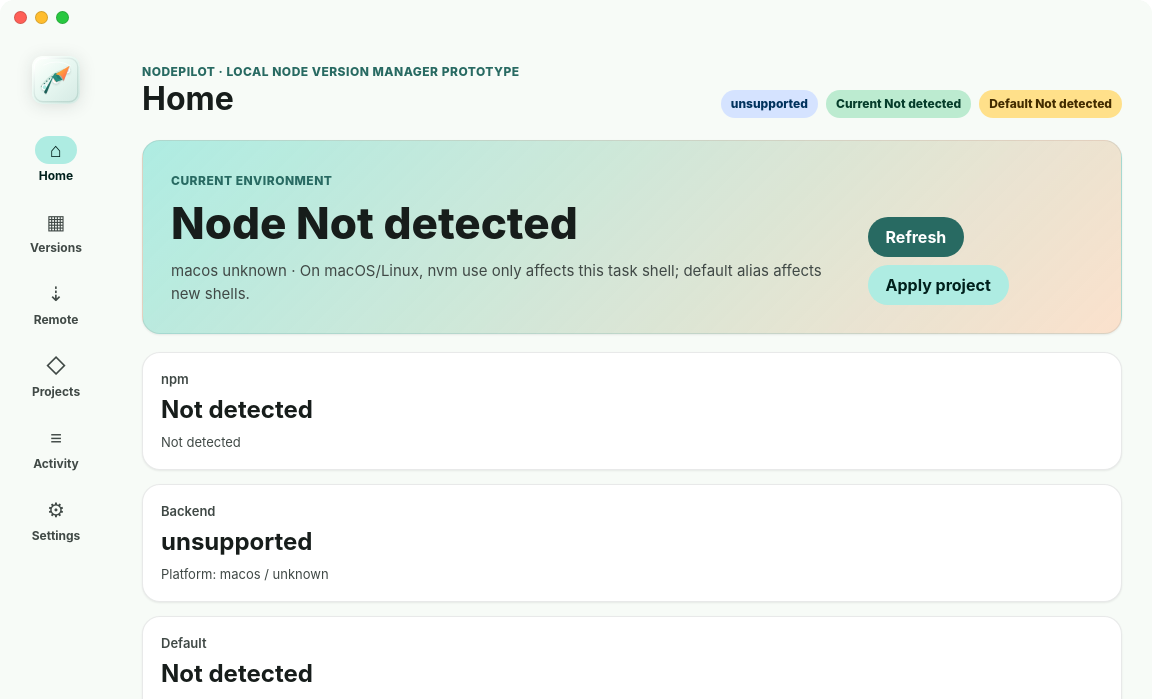
Test: App › cancels a running remote install task from Activity
Click the button with aria-label "Open Remote". click: (56, 304)
box: 14,272 -> 98,336
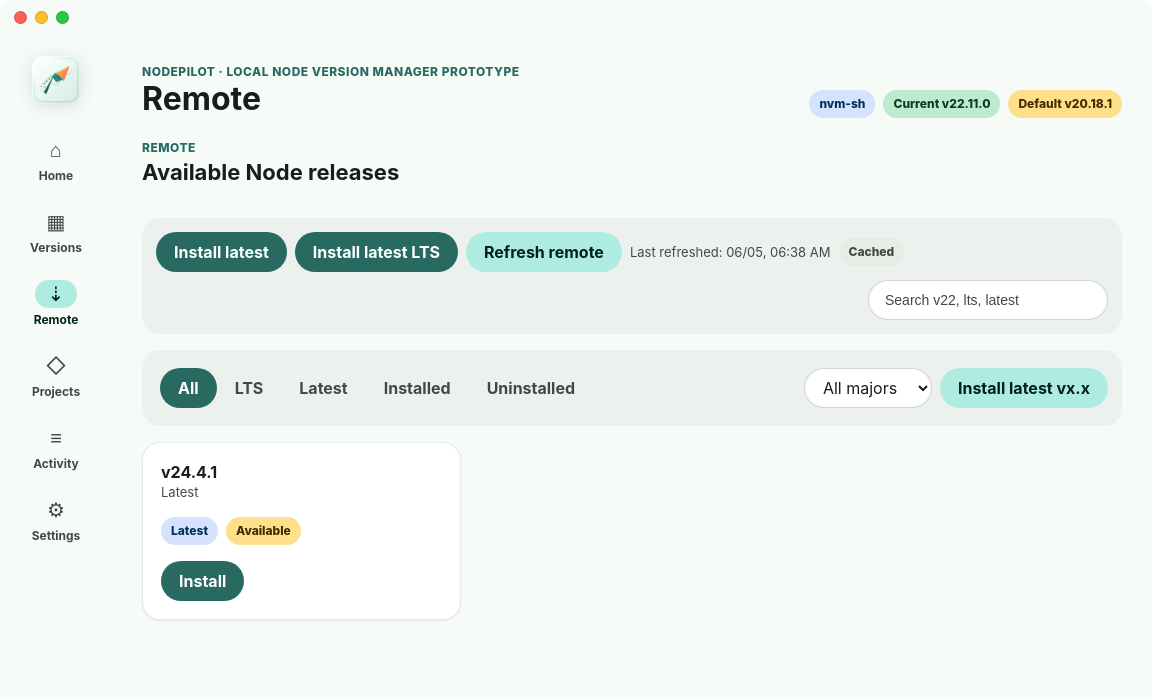
Now the heading "v24.4.1" is shown, box 161,462 -> 217,482
Click the button "Install latest". click: (221, 252)
box: 156,232 -> 287,272
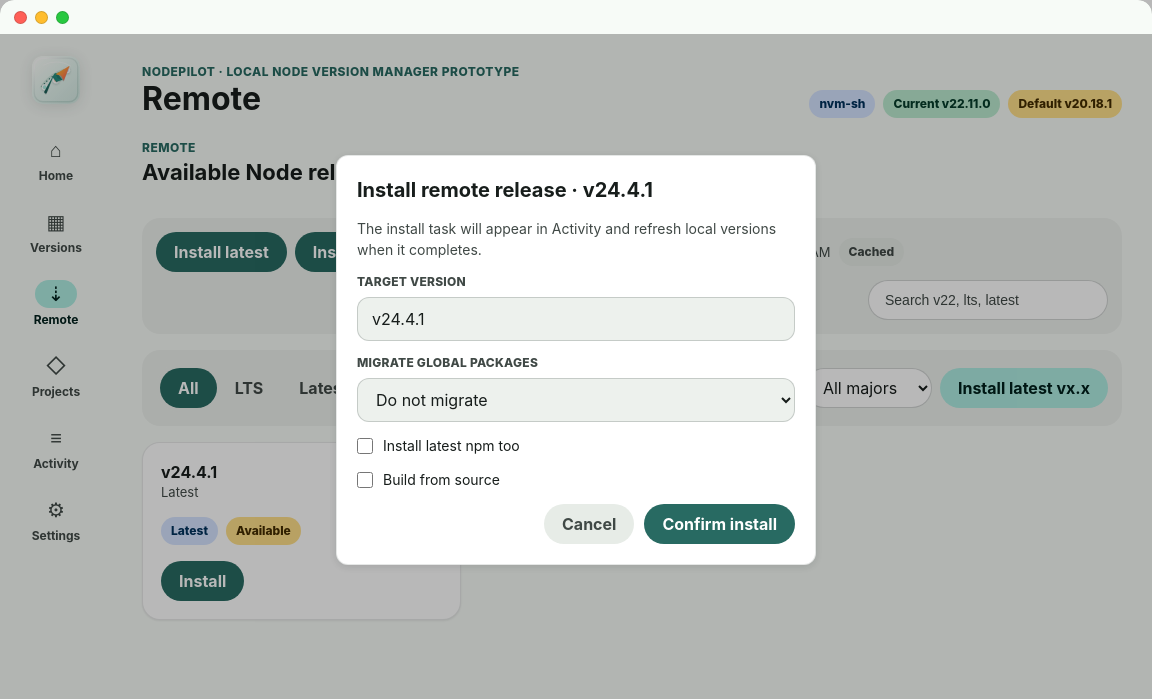
Click the button "Confirm install". click: (720, 524)
box: 644,504 -> 795,544
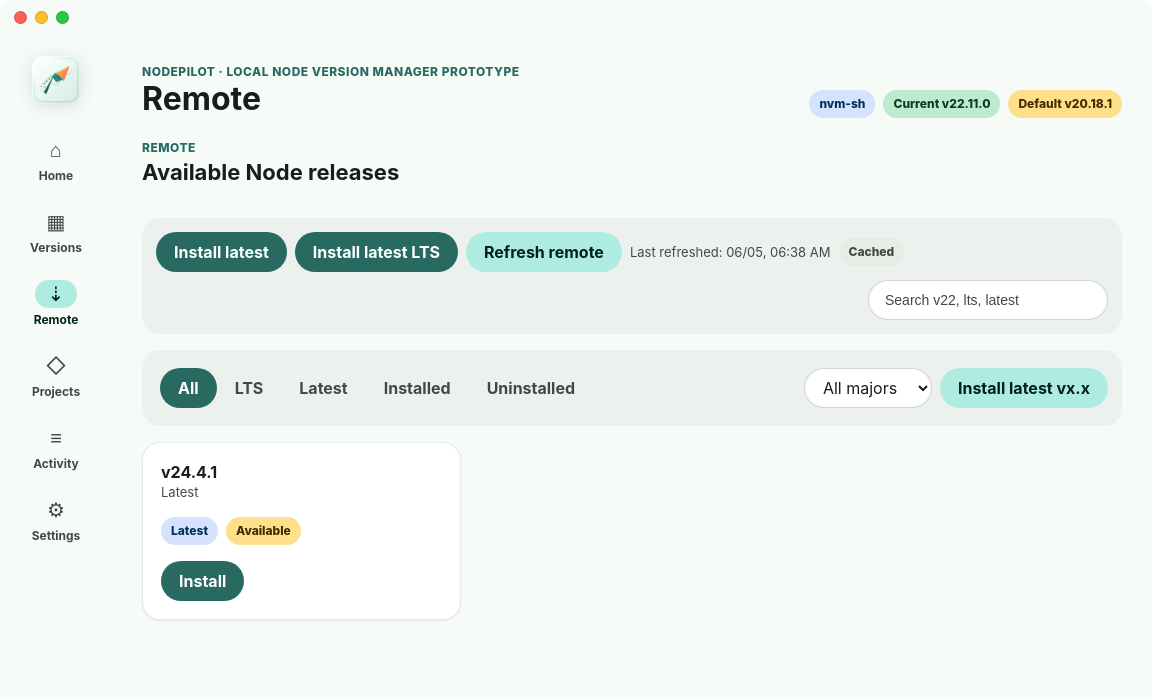
Click the button with aria-label "Open Activity". click: (56, 448)
box: 14,416 -> 98,480
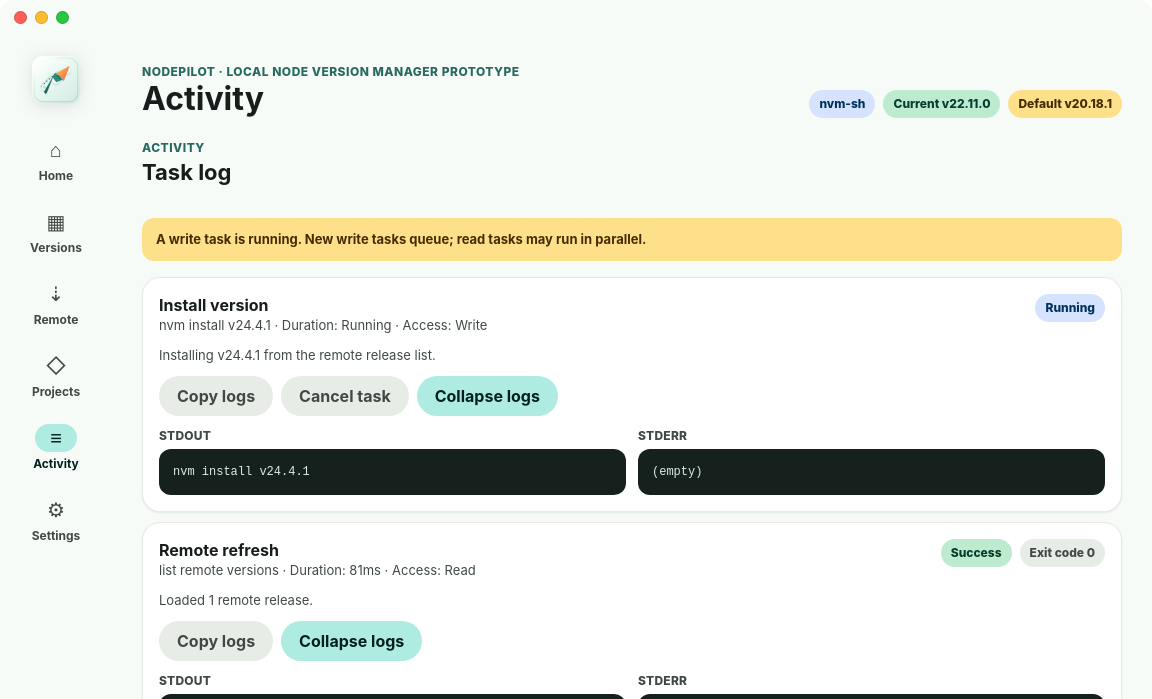
Click the button "Cancel task". click: (345, 396)
box: 281,376 -> 409,416
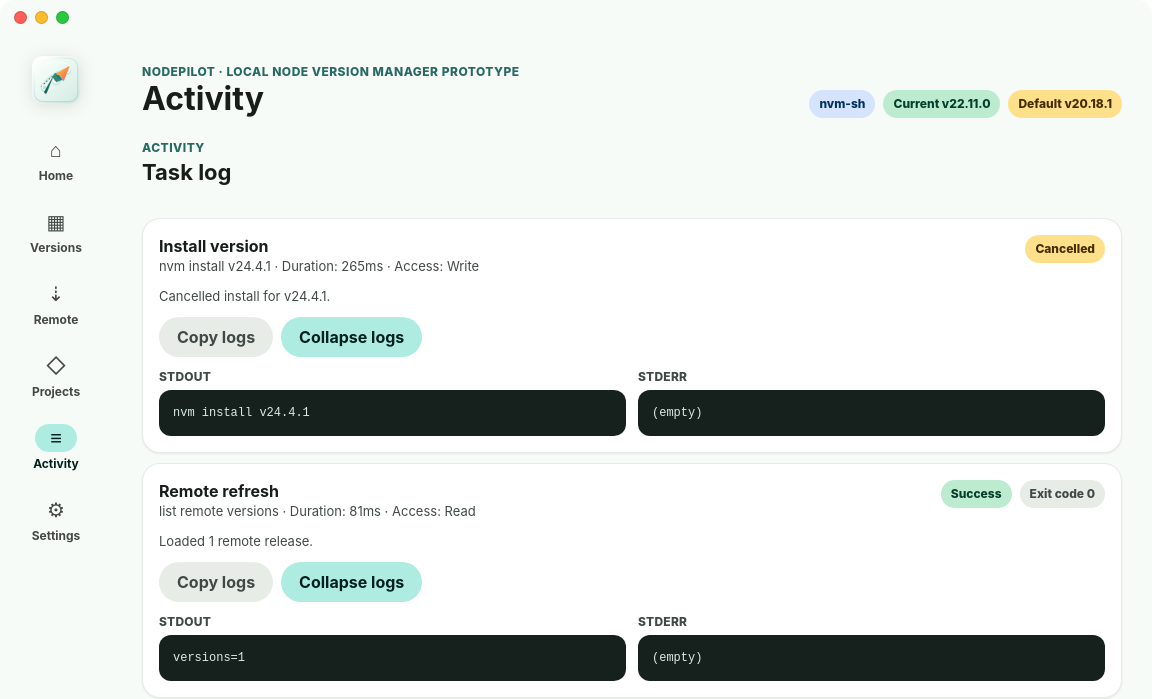
Now the text "Cancelled" is shown, box 1025,235 -> 1105,263
